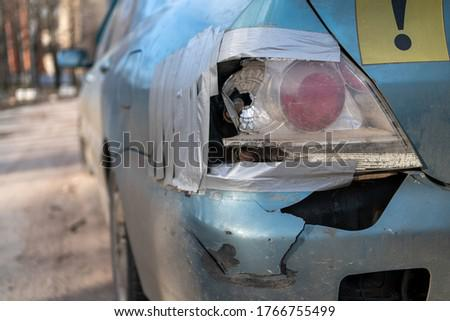Taillight-Damage: (175, 27, 305, 196)
rear-bumper-dent: (178, 165, 436, 295)
